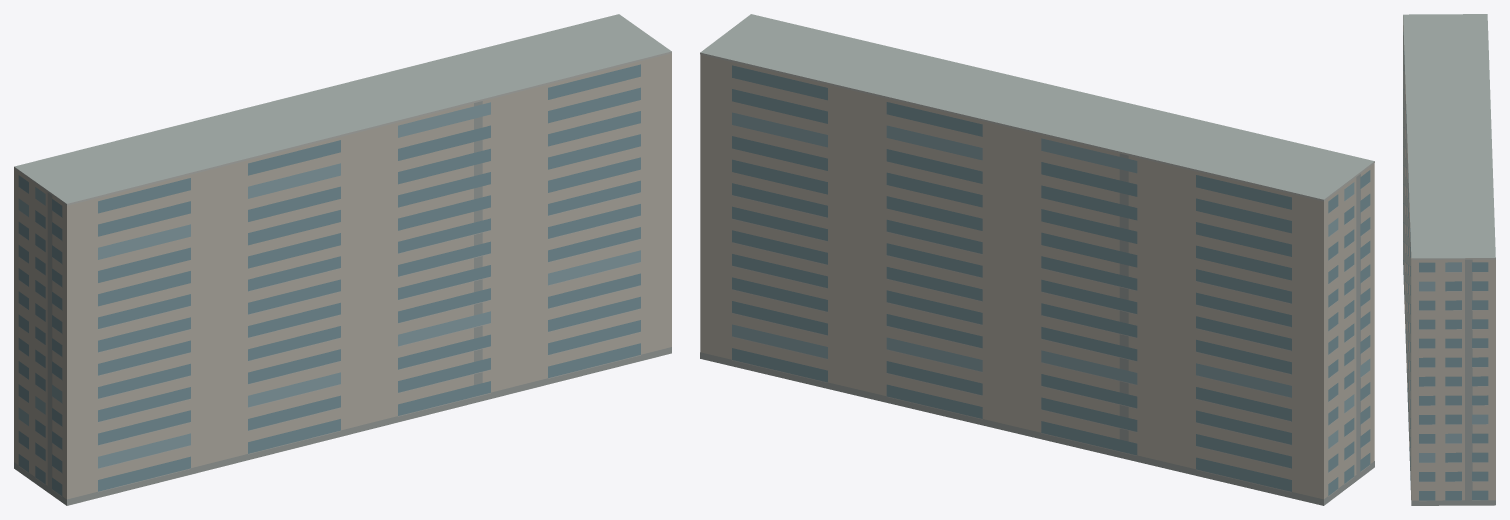
The model's file is residential-c6a20b4f-f850-40fa-88ff-2beb0560ba4a.glb.
The picture shows the model from 3 angles, left to right: view 1: azimuth 30°, elevation 25°; view 2: azimuth 150°, elevation 25°; view 3: azimuth 270°, elevation 25°; orthographic projection. The views are drawn at different scales.
Visible parts, largest first — view 1: residential-c6a20b4f-f850-40fa-88ff-2beb0560ba4a.tmp; view 2: residential-c6a20b4f-f850-40fa-88ff-2beb0560ba4a.tmp; view 3: residential-c6a20b4f-f850-40fa-88ff-2beb0560ba4a.tmp.
Part boxes in pixels (left/top/right/bottom): residential-c6a20b4f-f850-40fa-88ff-2beb0560ba4a.tmp: left=14, top=14, right=671, bottom=505; residential-c6a20b4f-f850-40fa-88ff-2beb0560ba4a.tmp: left=700, top=14, right=1374, bottom=505; residential-c6a20b4f-f850-40fa-88ff-2beb0560ba4a.tmp: left=1403, top=14, right=1495, bottom=505.
Size of the model in its own units: 84.01 by 39.65 by 13.49.
